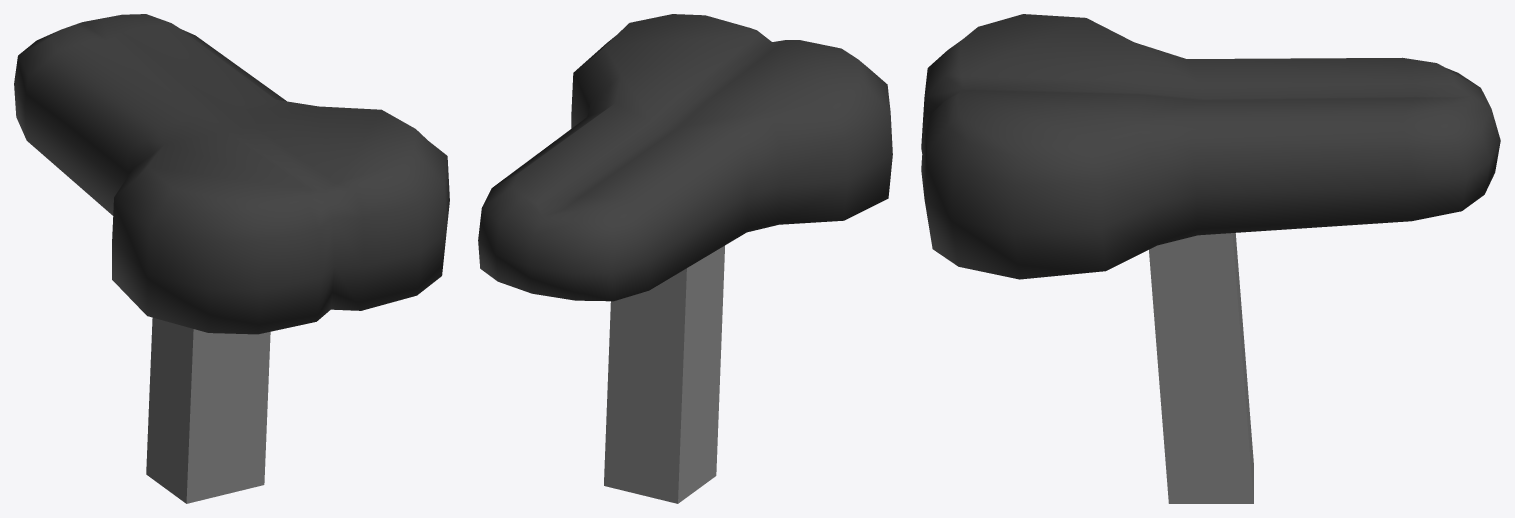
File: Exercise_Bike_Seat.fbx
3 renders of one model, left to right at view 1: azimuth 30°, elevation 25°; view 2: azimuth 150°, elevation 25°; view 3: azimuth 270°, elevation 25°, orthographic. The views are drawn at different scales.
Visible parts, largest first — view 1: Exercise_Bike_Seat; view 2: Exercise_Bike_Seat; view 3: Exercise_Bike_Seat.
Part boxes in pixels (x1,y1,x2,y2): Exercise_Bike_Seat: (14, 14, 449, 503); Exercise_Bike_Seat: (478, 14, 892, 503); Exercise_Bike_Seat: (921, 14, 1500, 503).
Bounding box in the file's own units: 23.48 × 28.73 × 37.03.
